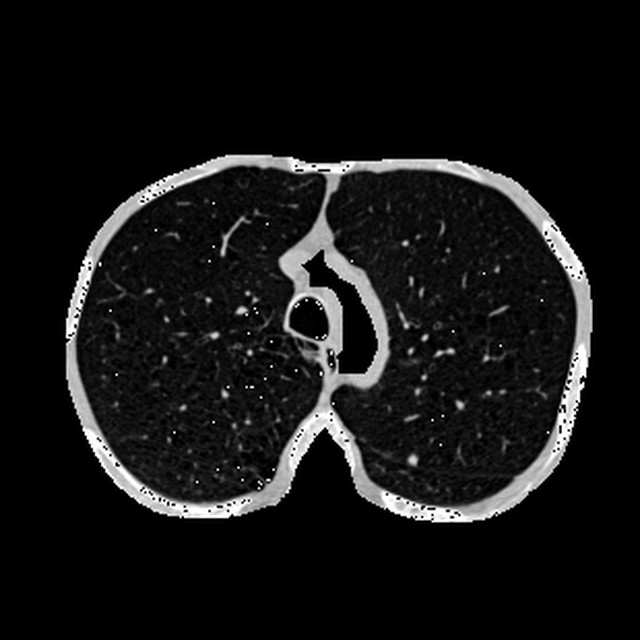PN: (409, 456, 417, 465)
